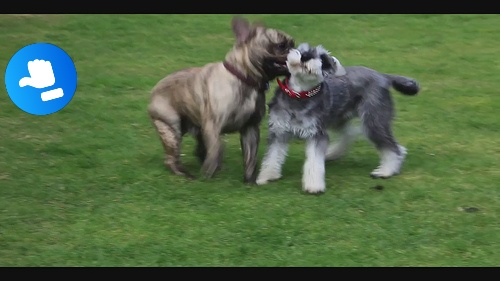like: (5, 43, 77, 115)
